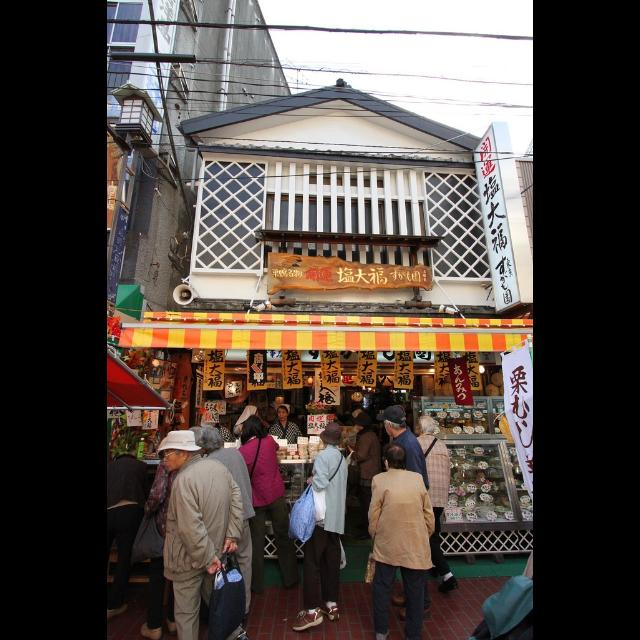head: (163, 432, 197, 473), (384, 442, 408, 472), (384, 409, 408, 437), (200, 427, 222, 455), (160, 436, 183, 462), (323, 427, 342, 449), (244, 416, 262, 438), (416, 416, 438, 434), (118, 452, 134, 470), (356, 413, 372, 431), (202, 414, 218, 428), (278, 403, 290, 421), (268, 402, 280, 416), (248, 406, 260, 420)
person: (232, 414, 304, 596), (288, 422, 350, 632), (194, 424, 258, 622), (376, 405, 434, 623), (408, 414, 460, 596), (107, 452, 163, 620), (342, 412, 384, 540), (200, 412, 242, 503), (268, 403, 306, 502), (232, 403, 268, 502), (259, 400, 289, 480)
